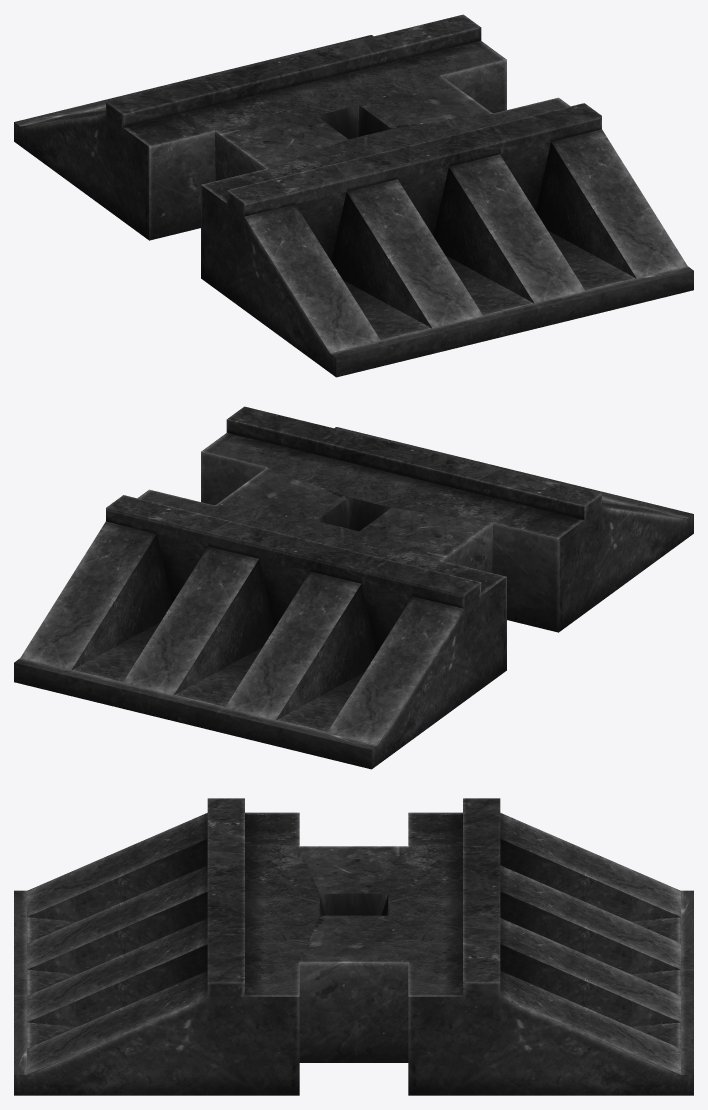
The model's file is ROD0310011.FBX.
3 renders of one model, top to bottom at view 1: azimuth 30°, elevation 25°; view 2: azimuth 150°, elevation 25°; view 3: azimuth 270°, elevation 25°, orthographic. The views are drawn at different scales.
Visible parts, largest first — view 1: smROD0310011; view 2: smROD0310011; view 3: smROD0310011.
Part boxes in pixels (x1=…): smROD0310011: x1=14, y1=14, x2=693, y2=377; smROD0310011: x1=14, y1=406, x2=693, y2=769; smROD0310011: x1=14, y1=798, x2=693, y2=1095.
Size of the model in its own units: 0.447 by 0.1278 by 0.6975.
1 material, 1 textured.
